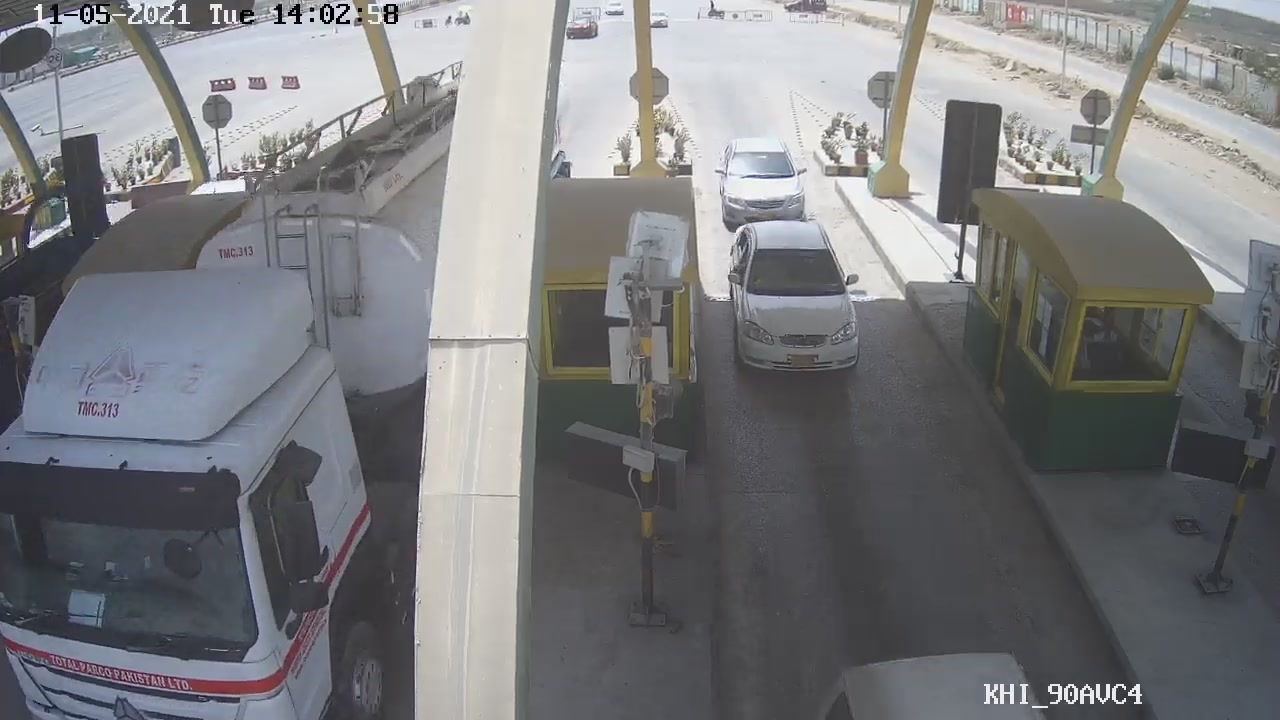F1: (727, 213, 860, 386)
